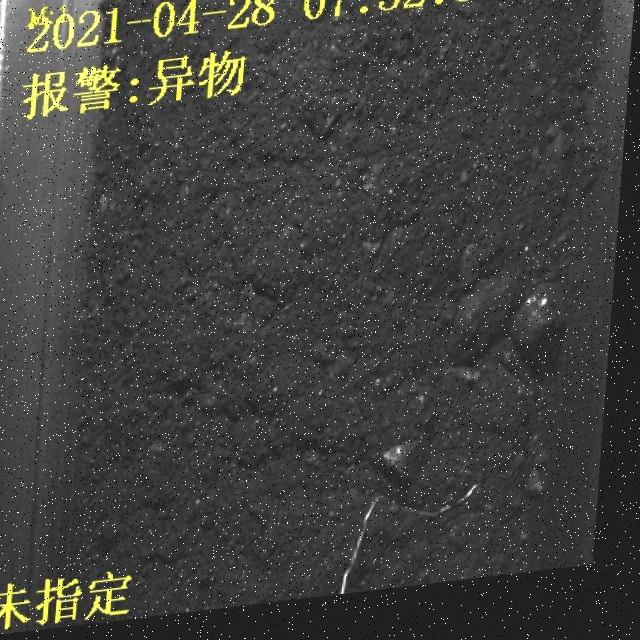bolt: (345, 493, 495, 604)
large_sized_coal: (451, 289, 528, 376), (515, 295, 568, 375), (389, 450, 440, 490)
